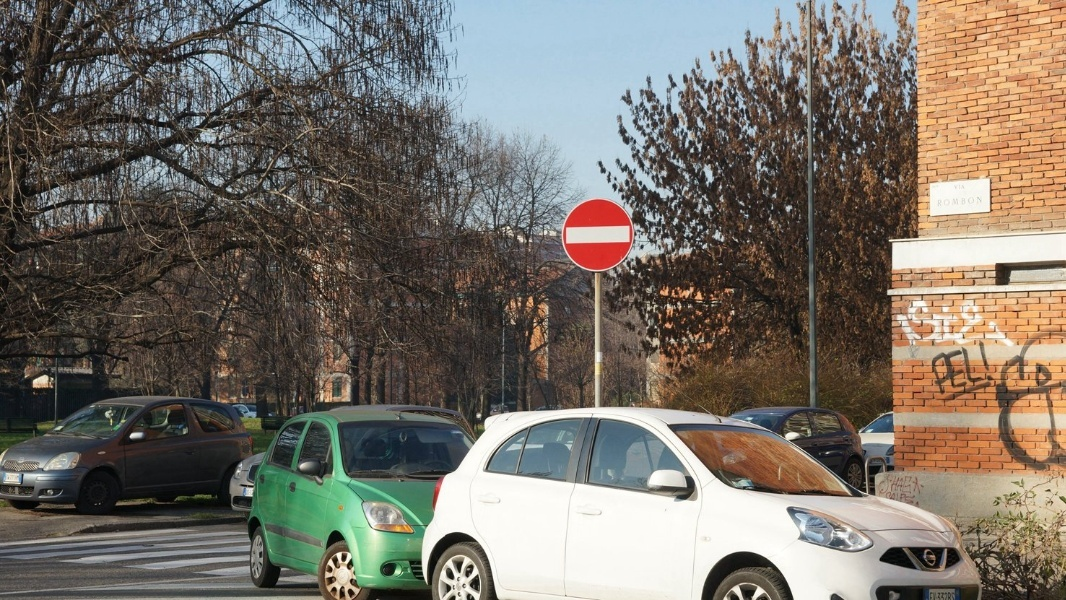text: (897, 286, 912, 373), (913, 286, 928, 373), (929, 286, 944, 373), (945, 286, 960, 373), (961, 286, 976, 373), (977, 286, 992, 373), (993, 286, 1008, 373), (929, 338, 944, 398), (945, 338, 960, 398), (961, 338, 976, 398), (977, 338, 992, 398), (1009, 286, 1019, 373), (890, 286, 896, 373), (881, 474, 896, 507), (897, 474, 912, 507), (945, 196, 960, 211), (961, 196, 976, 211), (596, 364, 608, 375), (913, 474, 917, 507), (926, 338, 928, 398), (993, 338, 995, 398), (930, 593, 944, 600), (598, 353, 608, 362), (938, 196, 944, 211), (977, 196, 982, 211), (945, 593, 955, 600), (6, 474, 16, 481), (878, 474, 880, 507), (245, 489, 256, 495), (929, 556, 936, 561), (955, 185, 960, 191), (961, 185, 965, 191), (17, 474, 19, 481), (926, 556, 928, 561)
